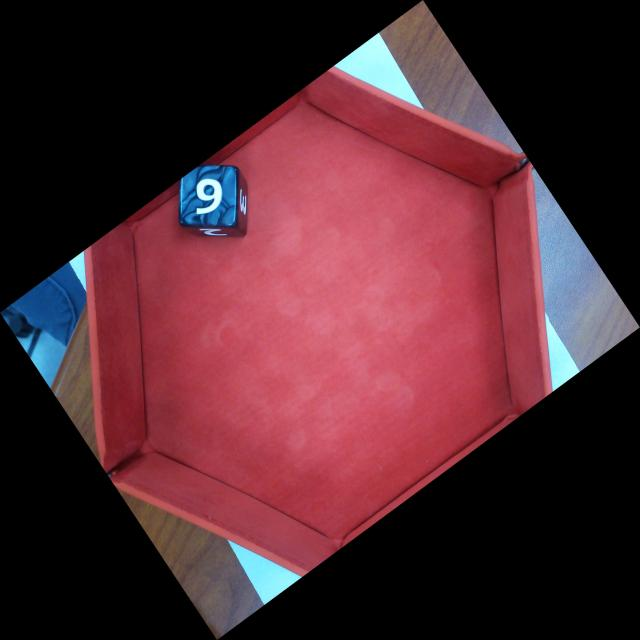dice: (182, 168, 239, 224)
